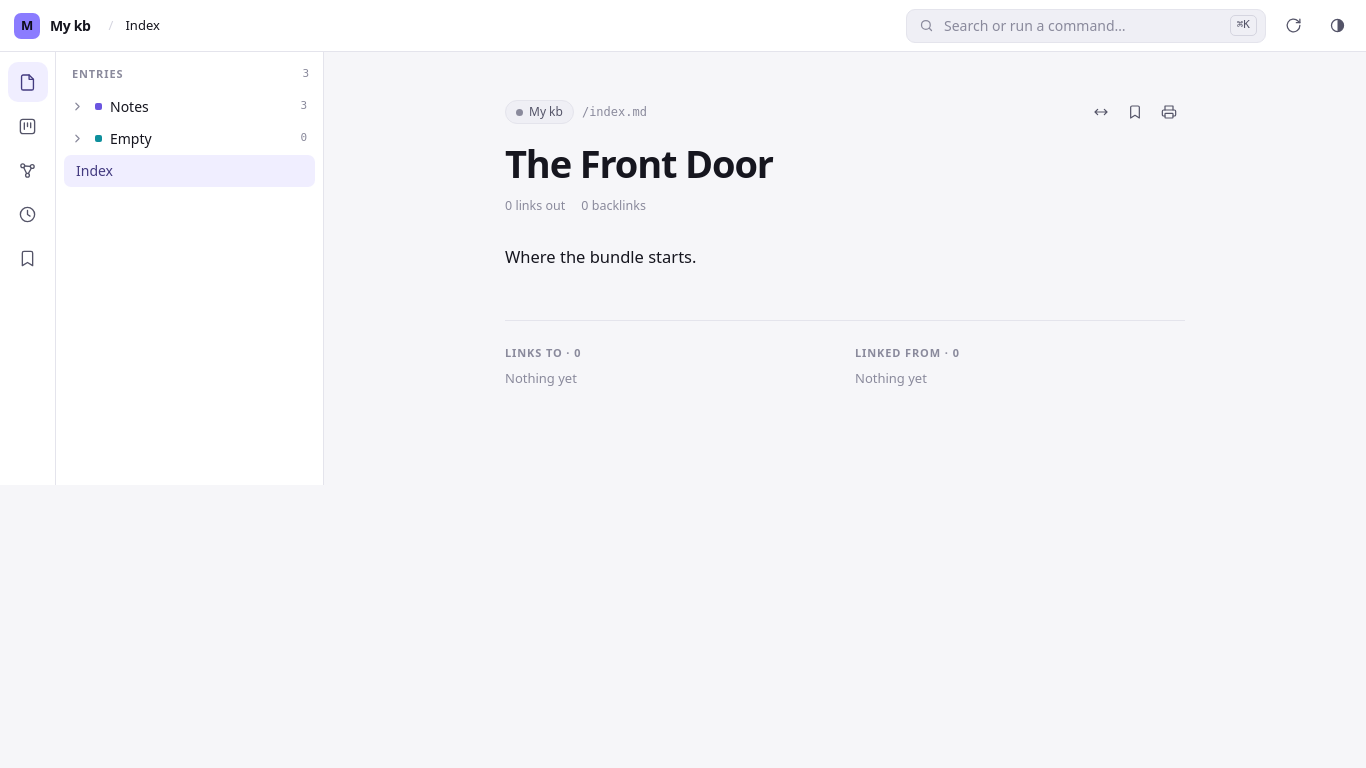
Test: with no boards declared the panel offers to make one
What coordinates should you click on to do the following:
click the button named "Boards"
I would click on:
 (28, 126)
Its box is [8,106,48,146].
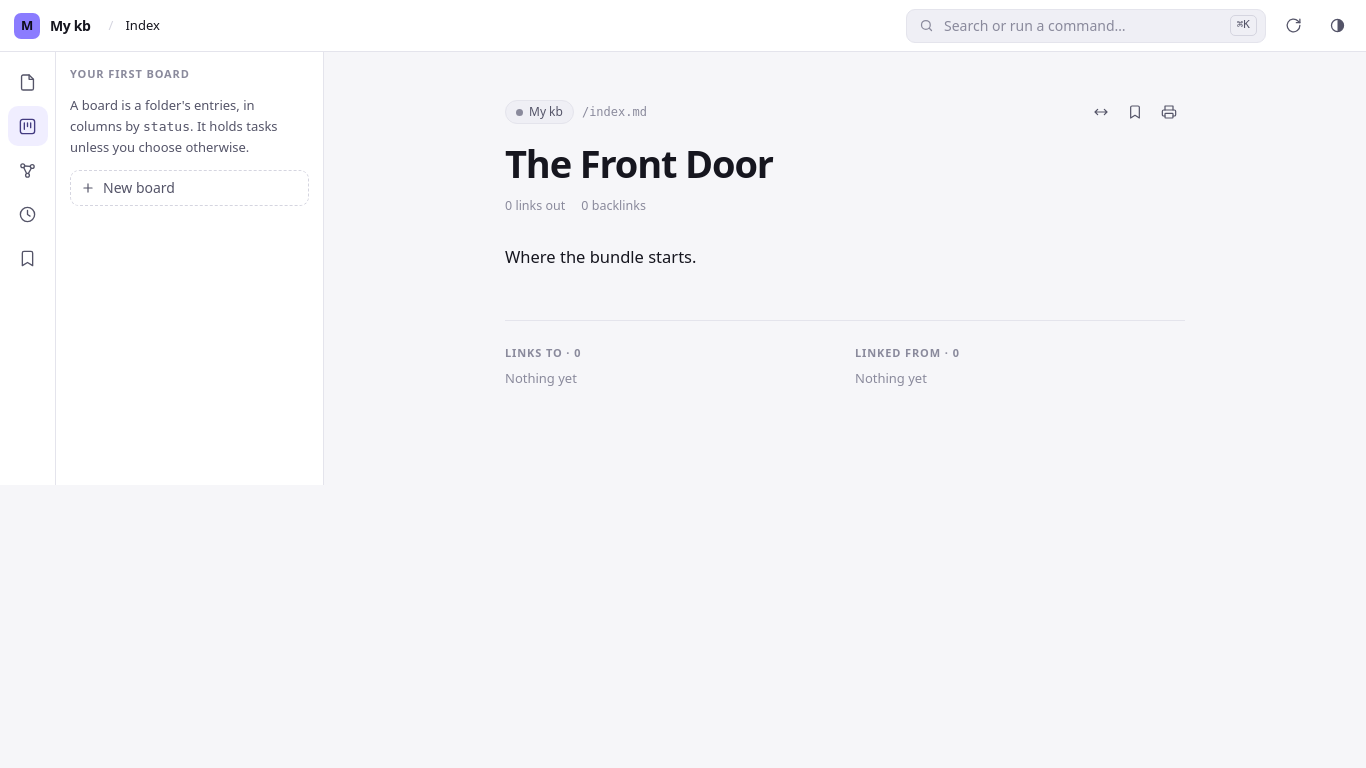
What coordinates should you click on to do the following:
click the button "New board"
I would click on:
 (190, 188)
Its box is [70,170,309,206].
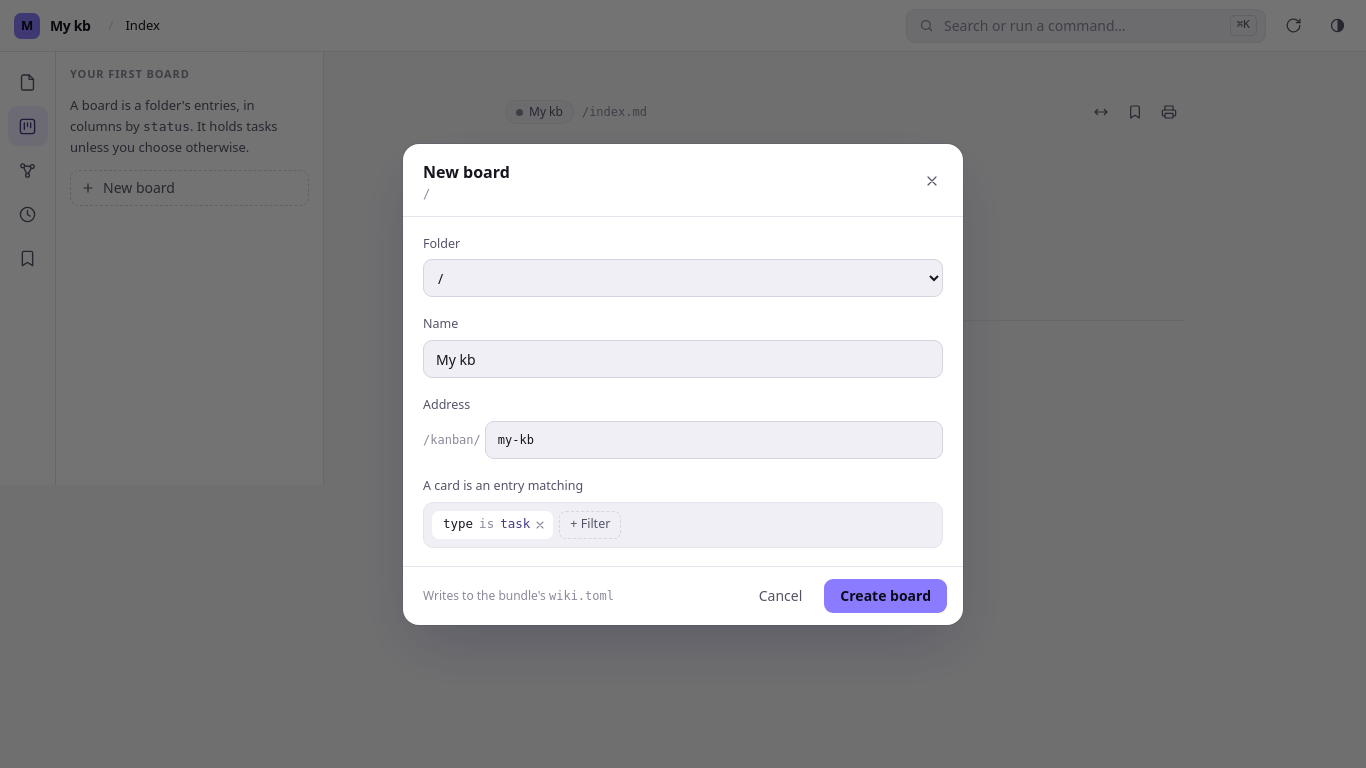
Expected: the field named "Board id" holds "my-kb", [485,421,943,459]
